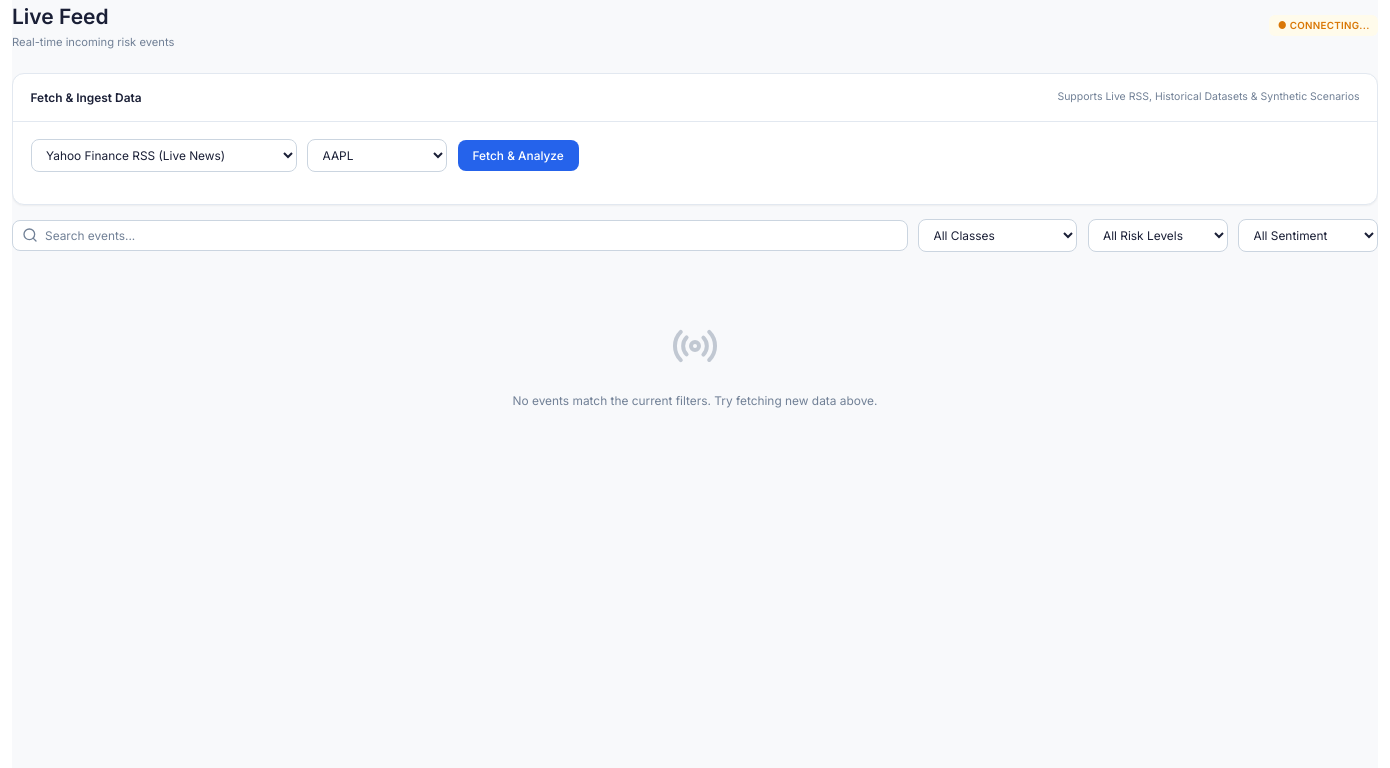
Test: LiveFeedPage Synchronization › displays clear status message when new articles are analyzed for Yahoo RSS
Expected: the button "Fetch & Analyze" is shown, left=458, top=140, right=579, bottom=171
Select "AMZN" in the 2nd dropdown at (377, 156), box left=307, top=139, right=447, bottom=172
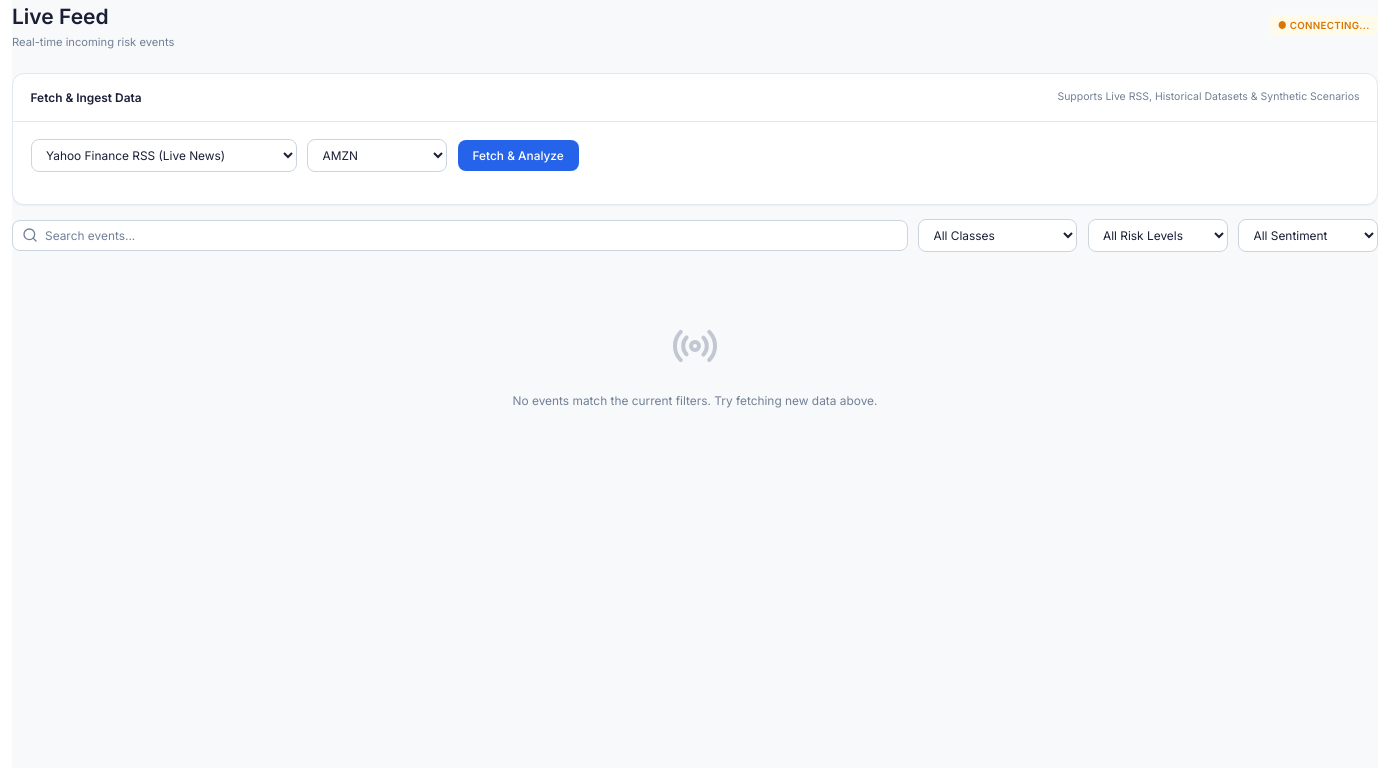
Click the button "Fetch & Analyze".
click(518, 156)  # box left=458, top=140, right=579, bottom=171
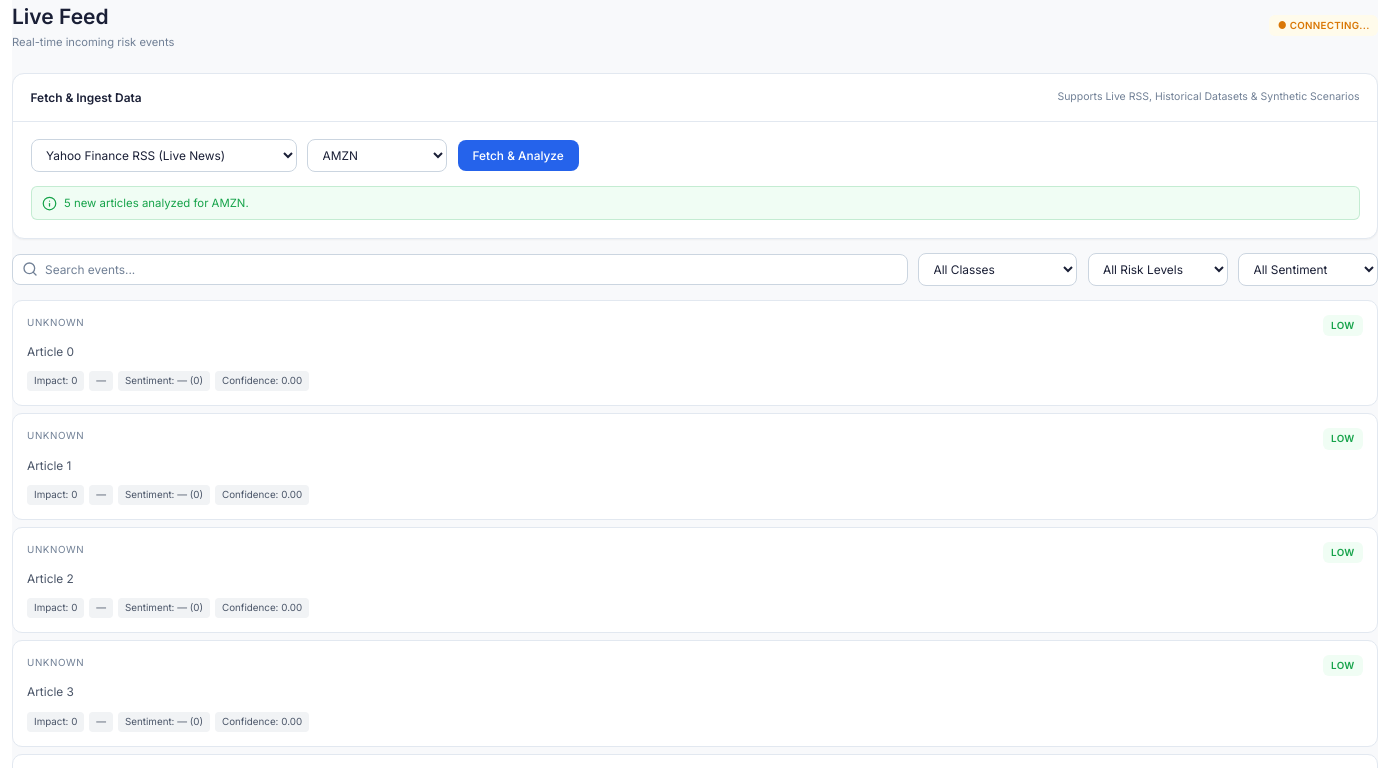
Now the text "5 new articles analyzed for AMZN." is shown, box left=64, top=194, right=249, bottom=212
